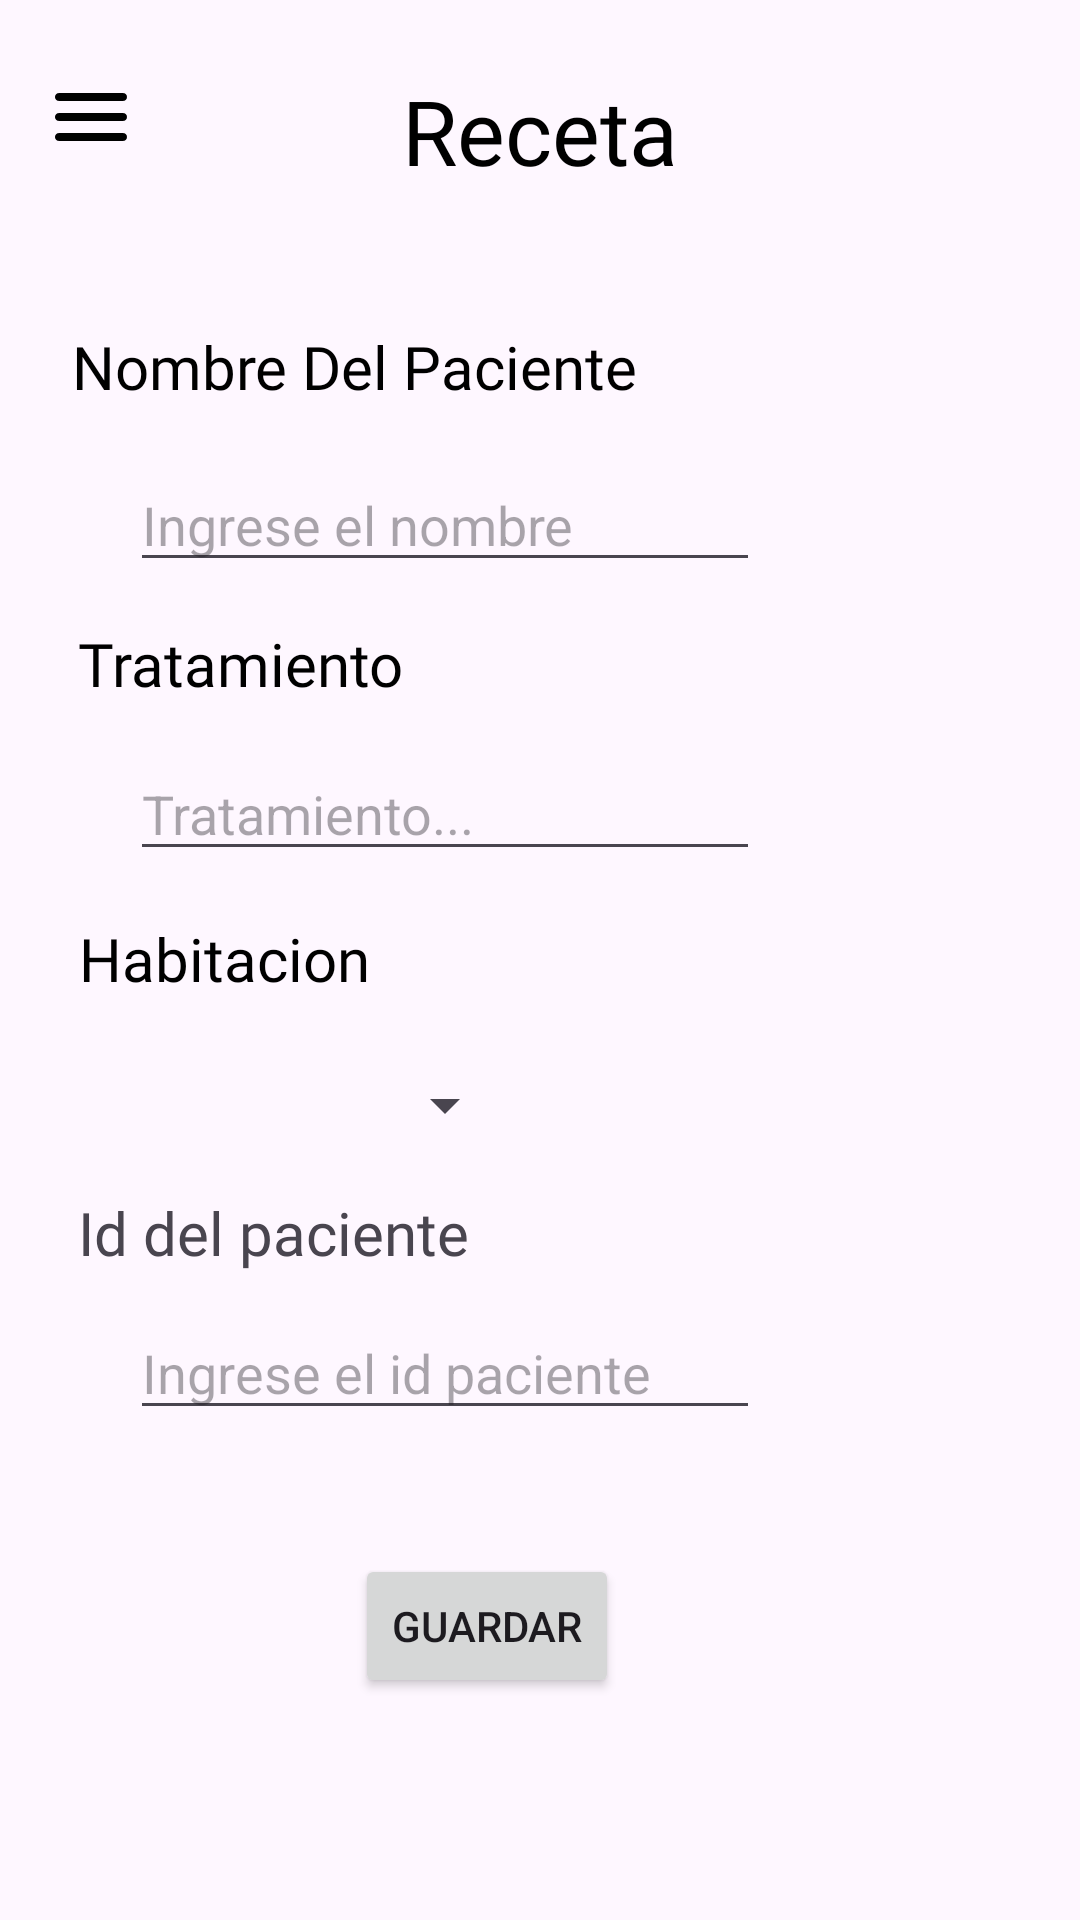

Point at icon controls on the screen. Image size 1080*1920, points as (x=x, y=y).
menu: (x=91, y=117)
